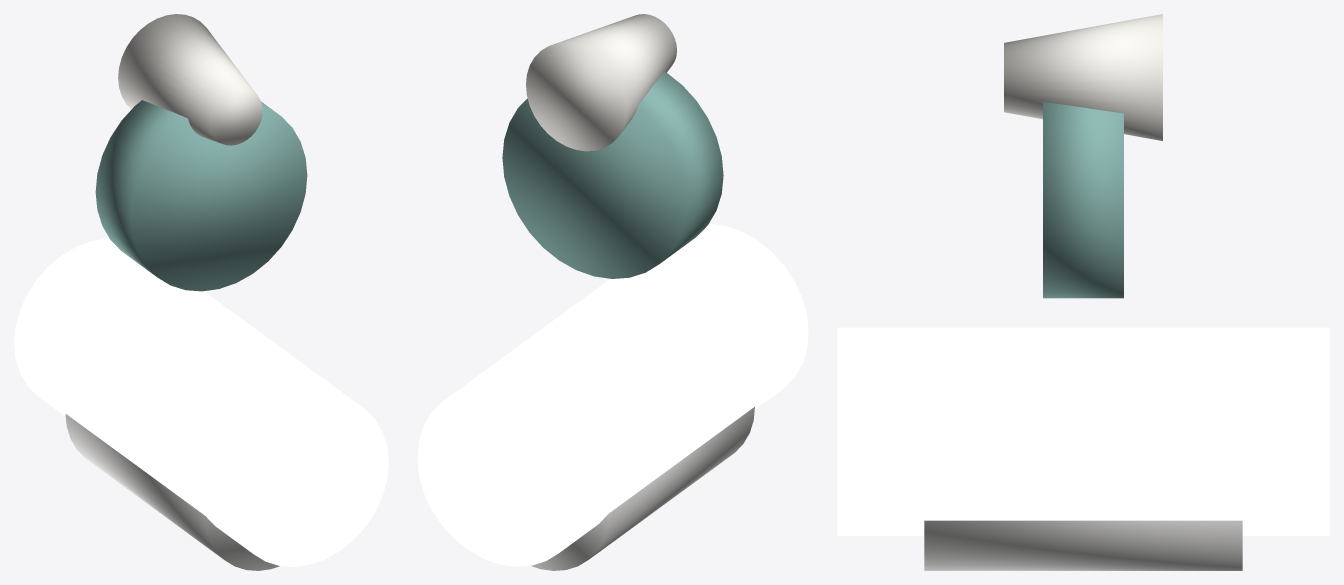
File: baby_bottle.glb
3 views of the same model, side by side, from view 1: azimuth 30°, elevation 25°; view 2: azimuth 150°, elevation 25°; view 3: azimuth 270°, elevation 25° (orthographic). The views are drawn at different scales.
Parts seen in each view (by area): view 1: Bottle body, Bottle collar, Bottle teat, Bottle milk; view 2: Bottle body, Bottle collar, Bottle teat, Bottle milk; view 3: Bottle body, Bottle milk, Bottle collar, Bottle teat.
Boxes of the visible parts, x1,y1,x2,y2 form: Bottle body: (14,238,388,566); Bottle collar: (95,100,307,291); Bottle teat: (118,14,262,145); Bottle milk: (65,414,279,570); Bottle body: (417,223,808,566); Bottle collar: (502,71,723,278); Bottle teat: (526,14,676,151); Bottle milk: (531,407,754,570); Bottle body: (837,327,1329,535); Bottle milk: (924,520,1242,570); Bottle collar: (1043,102,1123,298); Bottle teat: (1004,14,1162,140).
Bounding box in the file's own units: 0.08 × 0.207 × 0.17.
